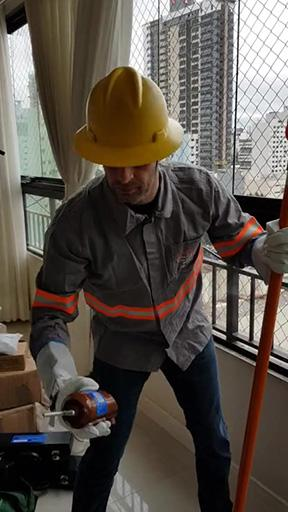Detector_Tensao_Contato: (42, 389, 118, 424)
Vara_Manobra: (231, 167, 288, 511)
